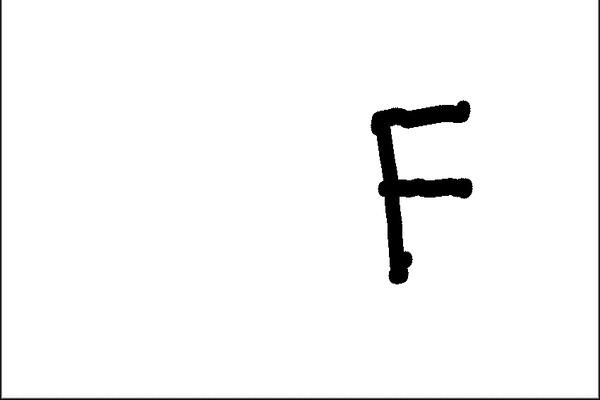F: (362, 97, 478, 288)
